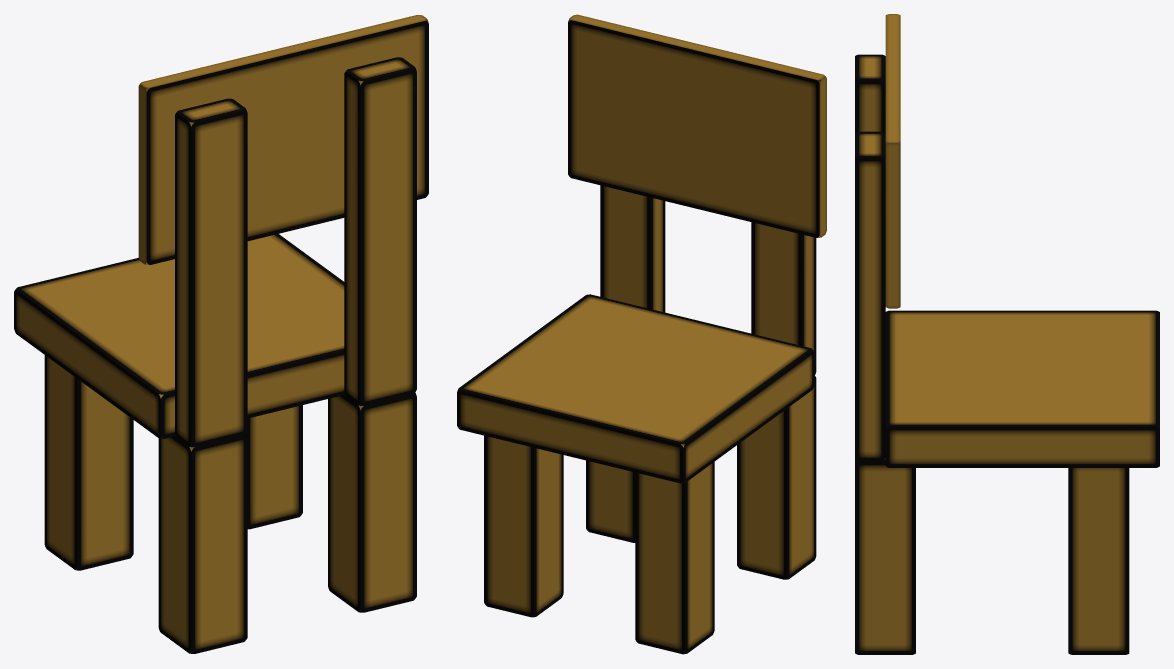
File: Chair.fbx
The picture shows the model from 3 angles, left to right: view 1: azimuth 30°, elevation 25°; view 2: azimuth 150°, elevation 25°; view 3: azimuth 270°, elevation 25°; orthographic projection. The views are drawn at different scales.
Visible parts, largest first — view 1: cube, cube_7, cube_6, cube_5, cube_4, cube_3, cube_1, cube_2; view 2: cube, cube_7, cube_1, cube_2, cube_4, cube_5, cube_6, cube_3; view 3: cube, cube_3, cube_2, cube_6, cube_7, cube_5.
Part boxes in pixels (x1,y1,x2,y2): cube: (14, 234, 344, 438); cube_7: (138, 15, 428, 265); cube_6: (344, 57, 416, 405); cube_5: (175, 98, 247, 447); cube_4: (158, 434, 247, 653); cube_3: (328, 392, 416, 612); cube_1: (44, 355, 133, 570); cube_2: (246, 405, 302, 529); cube: (457, 294, 814, 483); cube_7: (568, 14, 826, 237); cube_1: (635, 443, 714, 654); cube_2: (484, 435, 563, 617); cube_4: (737, 376, 816, 579); cube_5: (751, 222, 816, 375); cube_6: (600, 185, 665, 312); cube_3: (586, 460, 635, 542); cube: (885, 310, 1159, 467); cube_3: (855, 458, 915, 654); cube_2: (1068, 468, 1129, 654); cube_6: (855, 131, 885, 461); cube_7: (885, 14, 900, 308); cube_5: (855, 54, 885, 132).
Bounding box in the file's own units: 62.5 × 119 × 62.5.
1 material, 1 textured.
